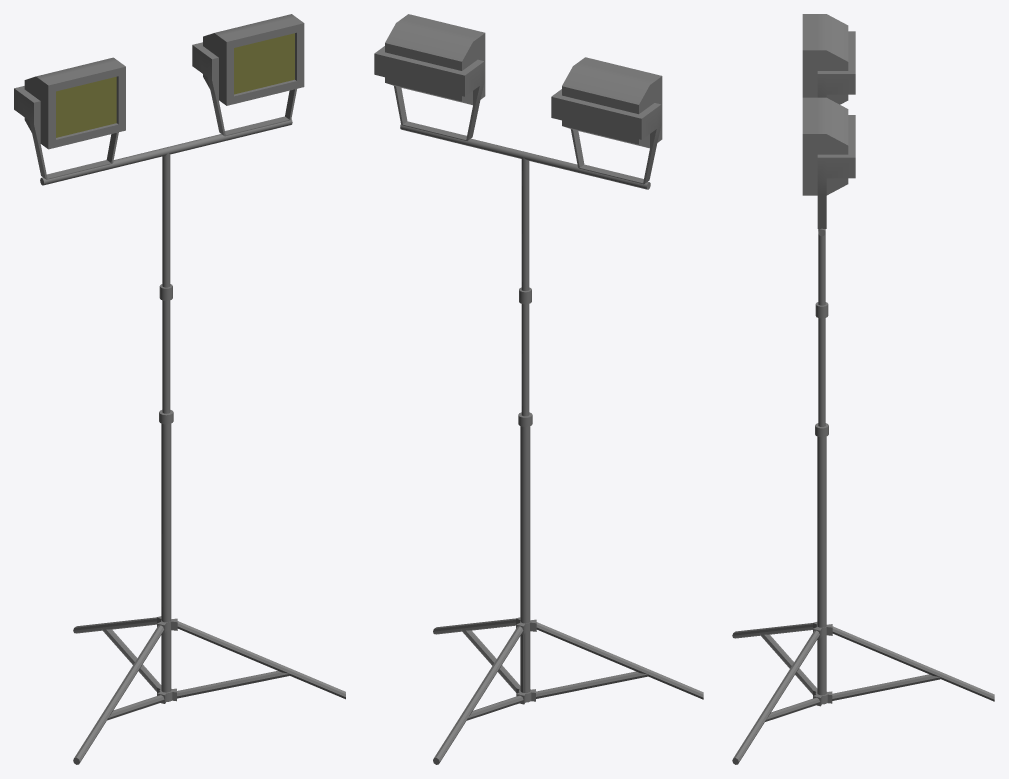
The model's file is Tripod.fbx.
The picture shows the model from 3 angles, left to right: view 1: azimuth 30°, elevation 25°; view 2: azimuth 150°, elevation 25°; view 3: azimuth 270°, elevation 25°; orthographic projection. The views are drawn at different scales.
Visible parts, largest first — view 1: Box001; view 2: Box001; view 3: Box001.
Part boxes in pixels (bbox=[...]): Box001: bbox=[14, 14, 345, 764]; Box001: bbox=[374, 14, 703, 764]; Box001: bbox=[732, 14, 994, 764].
Size of the model in its own units: 57.16 by 131 by 49.5.
